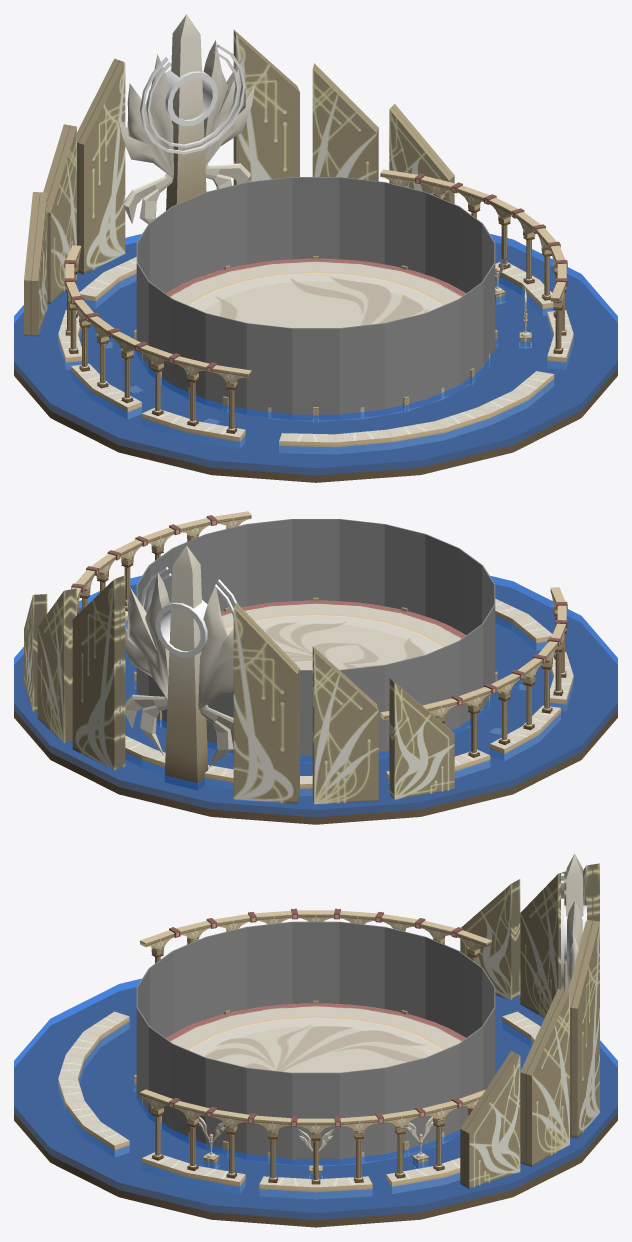
Rendered from stage02.FBX.
The picture shows the model from 3 angles, top to bottom: view 1: azimuth 30°, elevation 25°; view 2: azimuth 150°, elevation 25°; view 3: azimuth 270°, elevation 25°; orthographic projection.
Visible parts, largest first — view 1: Obelisk, Water, Ground02, Ground01, Brick, column, wall015, wall014, wall016, wall003, wall013, wall002 (+14 smaller); view 2: Obelisk, Ground02, Water, Ground01, column, Brick, wall011, wall010, wall012, wall013, wall009, wall014 (+11 smaller); view 3: Water, Ground02, Obelisk, Ground01, column, Brick, wall019, wall018, wall020, wall006, wall008, wall007 (+18 smaller).
Boxes of the visible parts, x1=… form: Obelisk: x1=24, y1=14, x2=454, y2=336; Water: x1=14, y1=234, x2=617, y2=475; Ground02: x1=14, y1=242, x2=617, y2=482; Ground01: x1=141, y1=258, x2=490, y2=421; Brick: x1=58, y1=257, x2=573, y2=454; column: x1=64, y1=169, x2=567, y2=433; wall015: x1=292, y1=328, x2=339, y2=420; wall014: x1=339, y1=323, x2=385, y2=420; wall016: x1=246, y1=323, x2=292, y2=420; wall003: x1=292, y1=177, x2=339, y2=259; wall013: x1=385, y1=313, x2=426, y2=414; wall002: x1=247, y1=177, x2=292, y2=264; Obelisk: x1=24, y1=545, x2=454, y2=804; Ground02: x1=14, y1=584, x2=617, y2=824; Water: x1=14, y1=575, x2=617, y2=817; Ground01: x1=156, y1=600, x2=489, y2=763; column: x1=71, y1=511, x2=567, y2=757; Brick: x1=125, y1=598, x2=573, y2=796; wall011: x1=292, y1=519, x2=339, y2=600; wall010: x1=247, y1=519, x2=292, y2=606; wall012: x1=339, y1=519, x2=384, y2=606; wall013: x1=384, y1=524, x2=425, y2=615; wall009: x1=206, y1=524, x2=247, y2=611; wall014: x1=425, y1=534, x2=458, y2=630; Water: x1=14, y1=978, x2=617, y2=1220; Ground02: x1=14, y1=987, x2=617, y2=1227; Obelisk: x1=460, y1=853, x2=599, y2=1188; Ground01: x1=142, y1=1003, x2=465, y2=1165; column: x1=140, y1=908, x2=491, y2=1184; Brick: x1=58, y1=1011, x2=540, y2=1199; wall019: x1=292, y1=921, x2=339, y2=1003; wall018: x1=247, y1=921, x2=292, y2=1008; wall020: x1=339, y1=921, x2=384, y2=1008; wall006: x1=339, y1=1067, x2=385, y2=1164; wall008: x1=246, y1=1067, x2=292, y2=1164; wall007: x1=292, y1=1072, x2=339, y2=1164.
Size of the model in its own units: 19038 by 9846 by 18749.
